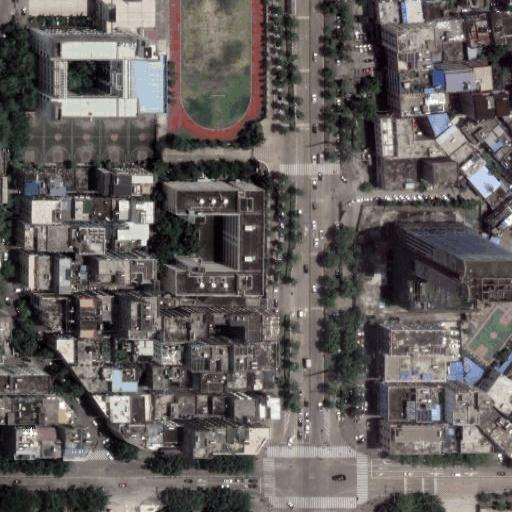building: (33, 31, 148, 113), (165, 177, 254, 282), (395, 227, 461, 274), (184, 425, 259, 456), (191, 315, 280, 341), (376, 333, 449, 362), (396, 272, 462, 304), (376, 389, 435, 424), (378, 424, 443, 455), (372, 362, 449, 386), (476, 405, 512, 450), (30, 429, 83, 459), (383, 155, 419, 191), (400, 90, 446, 116), (434, 124, 468, 157), (483, 194, 512, 232), (102, 400, 144, 426), (468, 164, 501, 197), (466, 113, 500, 145), (236, 397, 280, 421), (111, 426, 155, 450), (191, 346, 229, 373), (114, 222, 149, 251), (396, 28, 435, 54), (130, 298, 161, 330), (462, 425, 494, 453), (35, 300, 60, 335), (482, 125, 512, 154), (430, 20, 466, 44), (487, 373, 512, 407), (145, 369, 179, 394), (68, 373, 102, 398), (483, 181, 512, 210), (396, 115, 416, 156), (398, 70, 432, 94), (458, 150, 487, 178), (466, 15, 490, 48), (456, 393, 480, 425), (398, 51, 434, 72), (102, 373, 130, 400), (65, 228, 92, 256), (490, 11, 512, 45), (21, 198, 48, 225), (197, 296, 263, 307), (380, 119, 399, 157), (35, 228, 65, 252), (144, 399, 170, 426), (163, 318, 191, 343), (0, 370, 36, 389), (473, 89, 495, 120), (427, 109, 452, 136), (432, 162, 459, 187), (445, 72, 476, 93), (449, 141, 475, 166), (154, 346, 180, 369), (234, 346, 256, 373), (256, 341, 277, 369), (132, 260, 156, 284), (48, 343, 71, 368), (95, 276, 132, 291), (400, 0, 423, 24), (13, 170, 36, 194), (201, 373, 227, 394), (415, 140, 445, 158), (227, 373, 254, 393), (107, 343, 125, 373), (463, 363, 486, 386), (99, 260, 132, 276), (29, 397, 45, 429), (85, 343, 102, 373), (120, 199, 143, 221), (59, 197, 81, 220), (425, 0, 449, 21), (493, 90, 511, 118), (99, 296, 117, 323), (254, 369, 275, 392), (27, 255, 41, 289), (62, 168, 83, 190), (104, 170, 123, 194), (474, 66, 492, 91), (442, 42, 463, 63), (71, 343, 85, 373), (81, 198, 100, 220), (497, 348, 512, 375), (155, 426, 175, 446), (493, 215, 512, 236), (178, 396, 197, 417), (80, 298, 99, 319), (161, 296, 197, 307), (209, 395, 226, 418), (60, 259, 71, 294), (80, 319, 98, 340), (36, 169, 51, 194), (379, 2, 398, 21), (495, 139, 512, 160), (85, 398, 102, 418), (17, 255, 27, 288), (123, 181, 146, 195), (60, 300, 69, 335), (125, 343, 145, 358), (12, 228, 24, 253), (24, 228, 35, 254), (107, 199, 120, 221), (48, 197, 59, 222), (480, 393, 492, 415), (197, 395, 209, 417), (71, 280, 95, 291), (123, 170, 146, 181), (51, 169, 62, 190), (430, 71, 445, 86), (468, 0, 488, 11), (463, 121, 478, 135), (501, 150, 512, 169), (500, 401, 512, 417), (129, 330, 148, 340), (79, 264, 90, 280), (0, 330, 8, 352), (125, 358, 146, 366), (97, 171, 104, 194), (100, 198, 107, 221), (466, 47, 480, 58), (71, 263, 79, 280), (503, 110, 512, 125), (58, 228, 65, 247), (433, 50, 442, 63), (148, 330, 158, 340), (154, 281, 160, 293), (76, 256, 83, 264), (245, 341, 256, 346)
